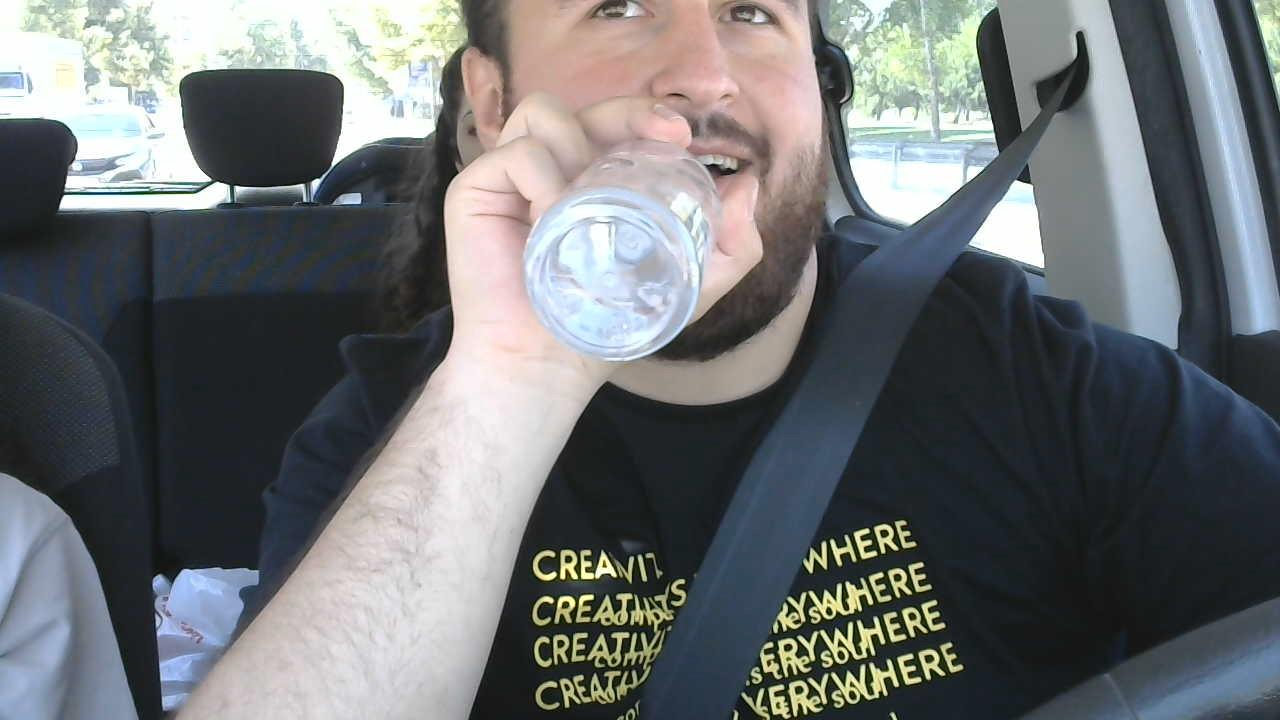Drinking: (460, 0, 823, 362)
